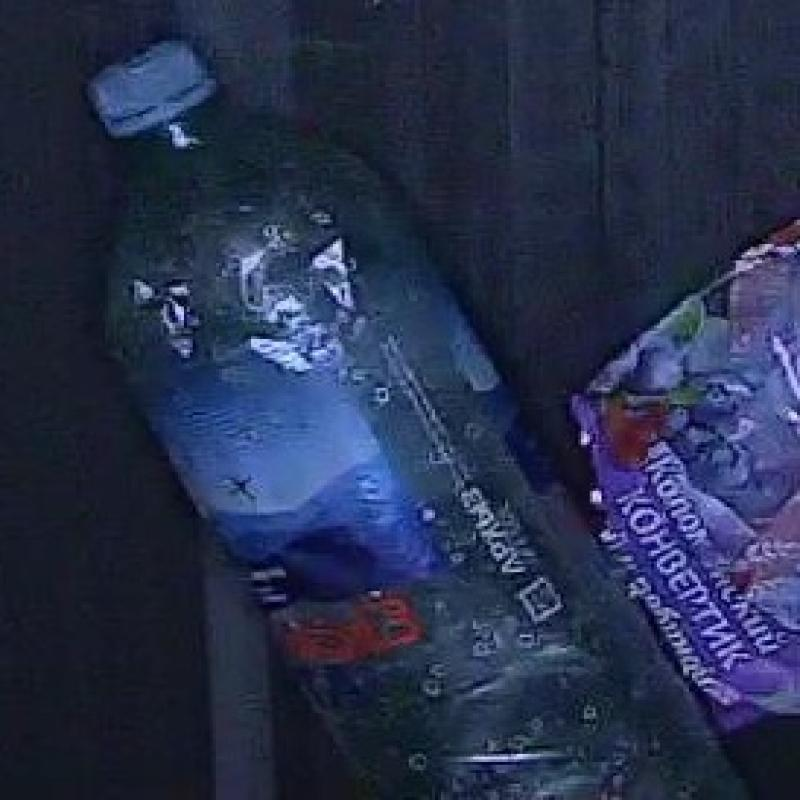botella: (93, 34, 746, 800)
